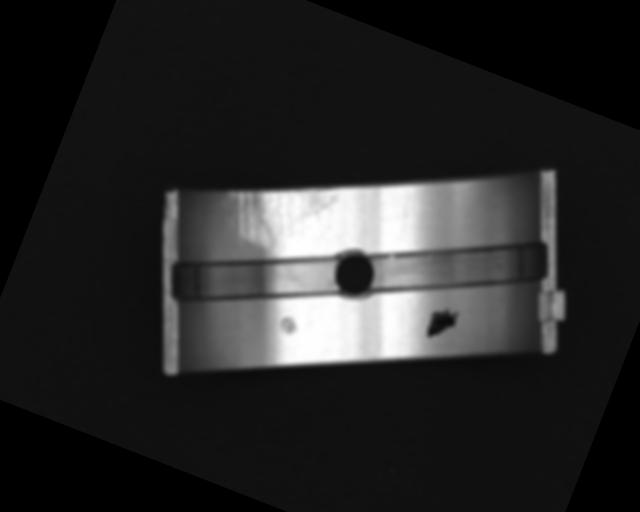blot: (421, 300, 462, 344)
bruise: (276, 311, 301, 337)
gap: (355, 188, 555, 346), (158, 202, 348, 352)
hole: (324, 240, 387, 308)
nick: (390, 188, 422, 236)
scratch: (212, 151, 343, 269)
